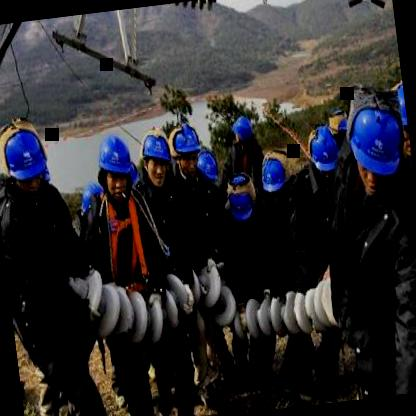helmet: (344, 96, 407, 186), (0, 120, 53, 199), (91, 130, 139, 208), (167, 117, 202, 183), (136, 129, 174, 188), (226, 172, 262, 230), (306, 126, 342, 177), (392, 77, 412, 162), (258, 154, 288, 194), (230, 113, 255, 160), (196, 150, 219, 197)
